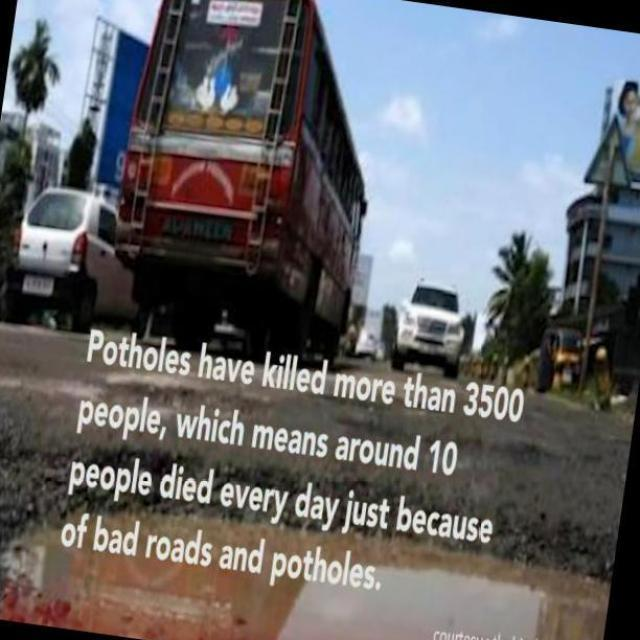Pathole: (5, 456, 591, 640)
